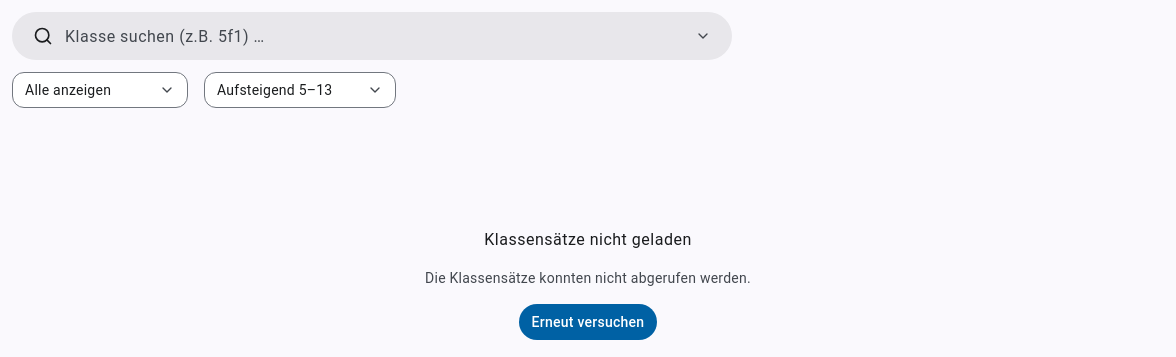
Scenario: KlassenUebersicht › zeigt nach „Erneut versuchen" die Liste statt der Fehlermeldung
Expected: the text "Klassensätze nicht geladen" is shown, [484, 228, 692, 252]
Expected: the text "09z1" is not shown
Click the button "Erneut versuchen" at (588, 322), box [519, 304, 657, 340]
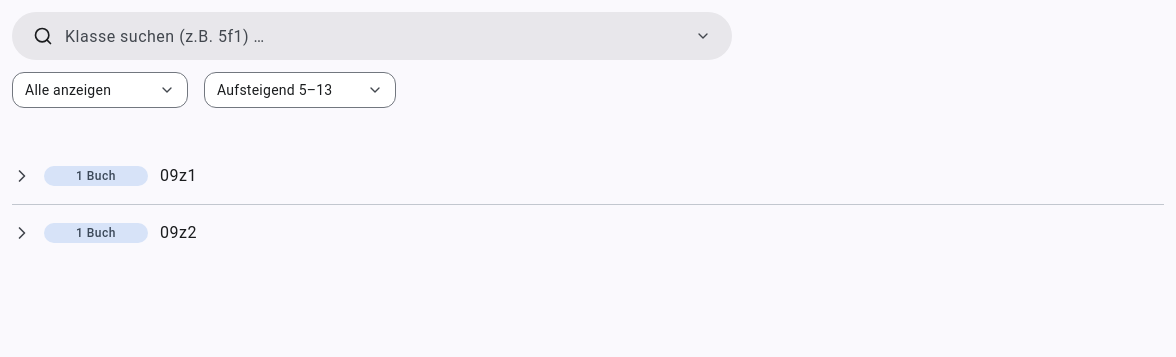
Expected: the text "09z1" is shown, [160, 164, 197, 188]
Expected: the text "Klassensätze nicht geladen" is gone
